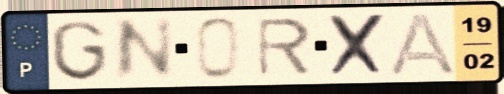0: (192, 14, 246, 82)
A: (386, 11, 460, 77)
G: (48, 18, 111, 83)
N: (111, 15, 177, 85)
R: (254, 15, 314, 79)
X: (326, 11, 390, 79)
